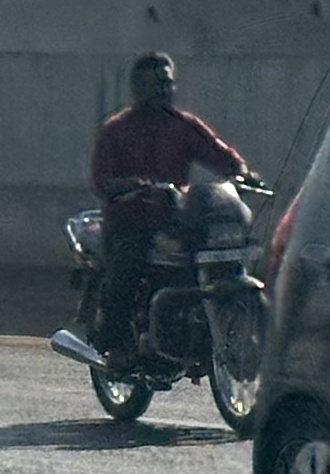BikeWithRider: (43, 46, 293, 436)
NoHelmet: (124, 55, 181, 109)
